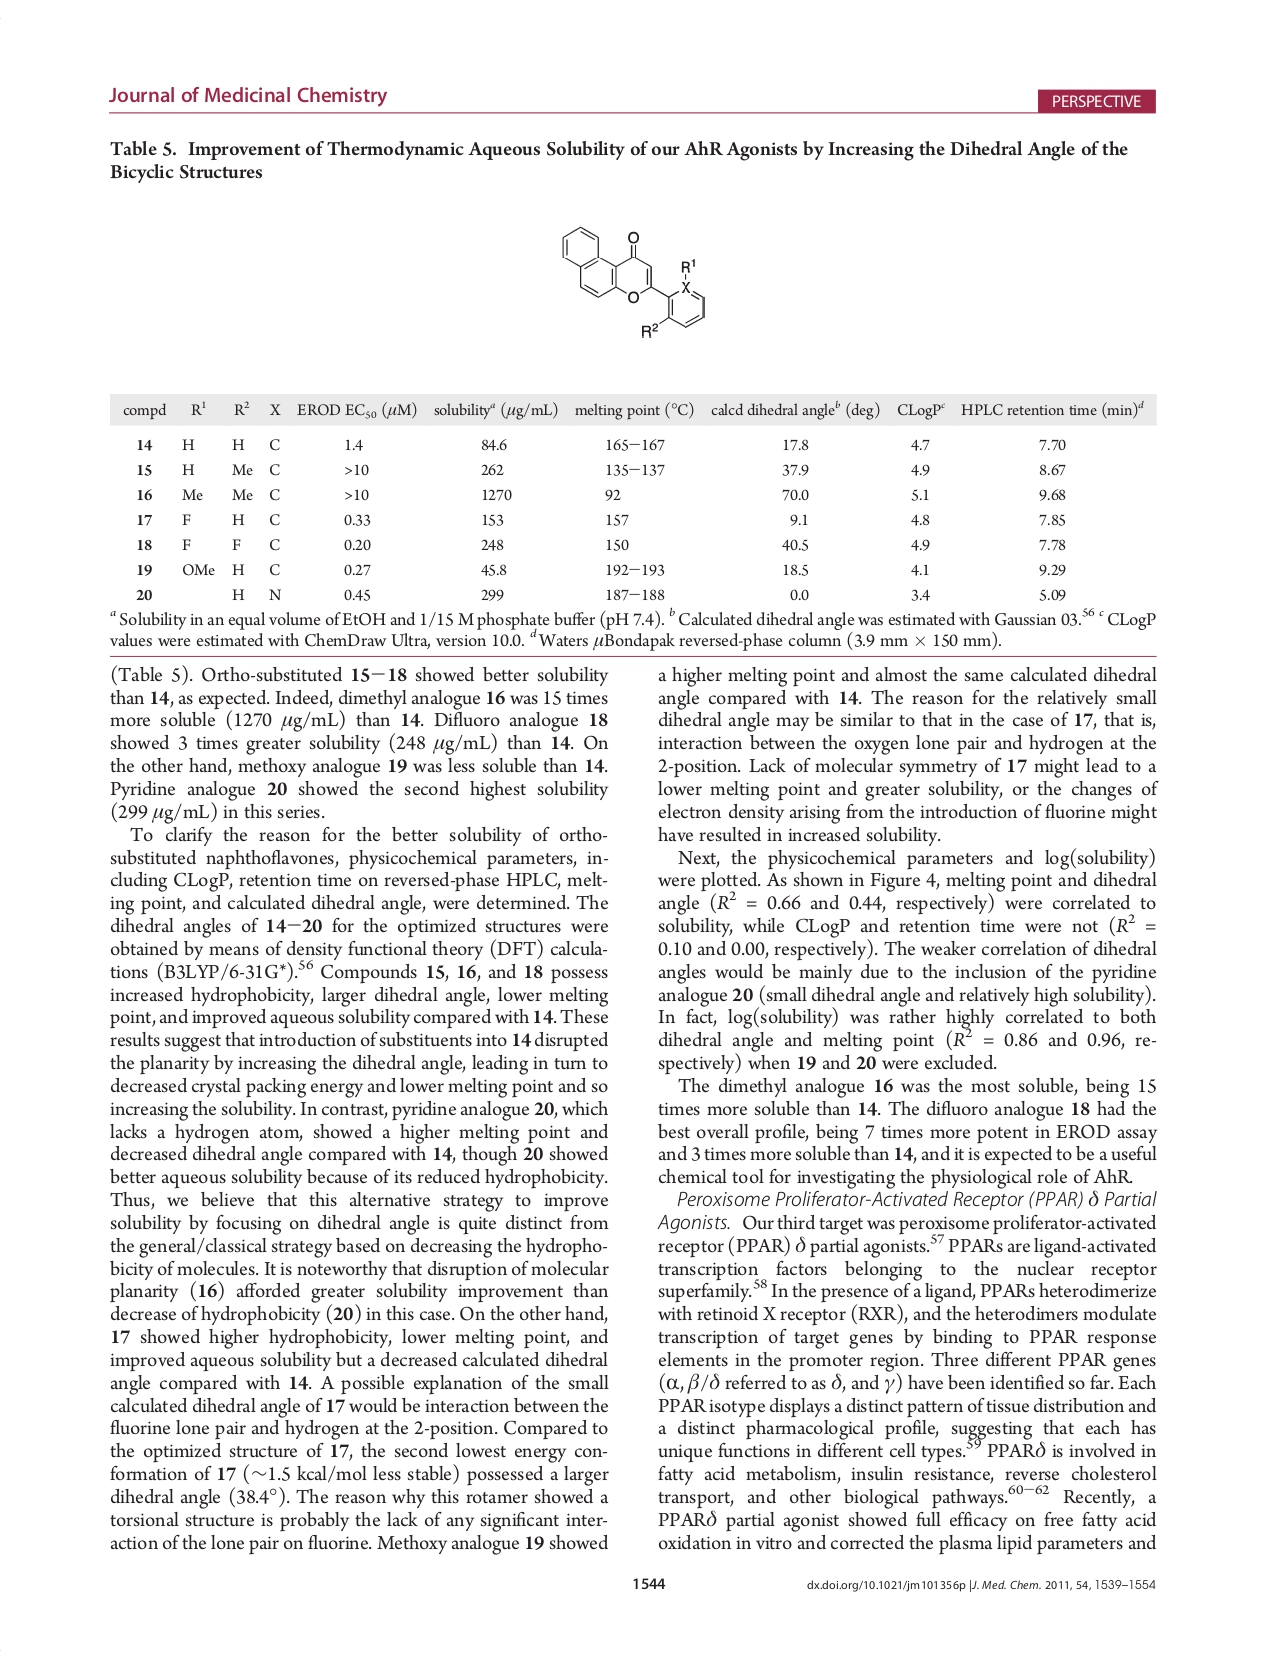exist_molecular: (555, 214, 711, 350)
